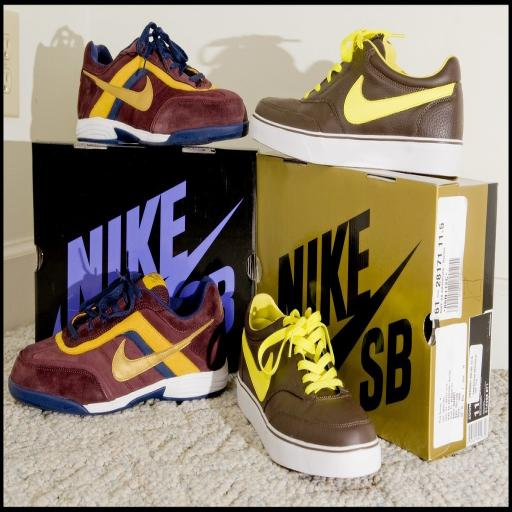shoe: (8, 271, 228, 415), (249, 30, 463, 177), (237, 293, 381, 478), (76, 22, 248, 146)
